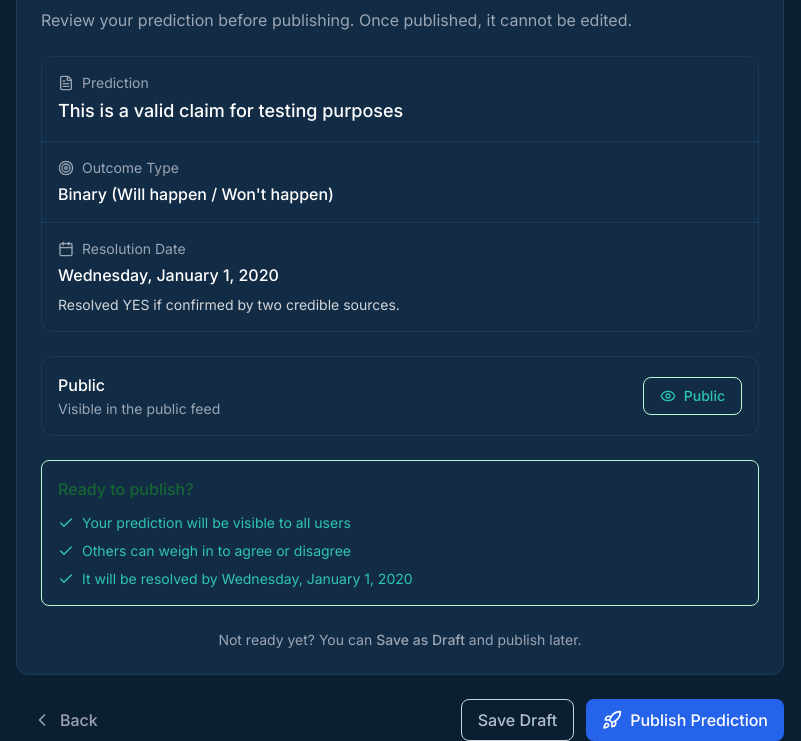
Test: ForecastWizard › submit guard — publish with stale/incomplete draft › navigates to step 3 and shows error when resolveByDatetime is in the past
(page scrolled)
Click the button "Publish Prediction" at (685, 720), box [586, 699, 784, 740]
(page scrolled)
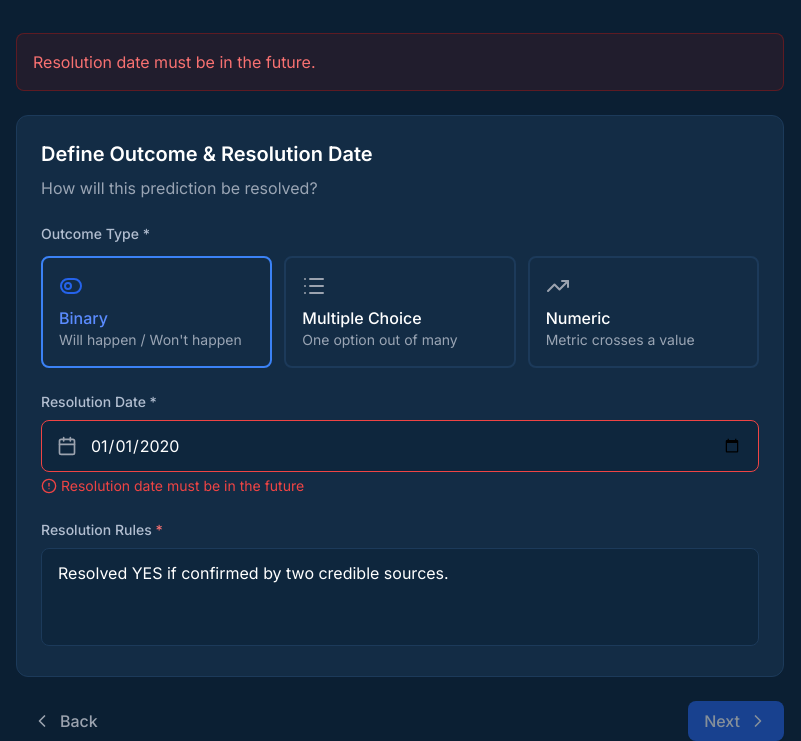
Check: the text "Resolution date must be in the future." is shown, box [16, 33, 784, 91]
